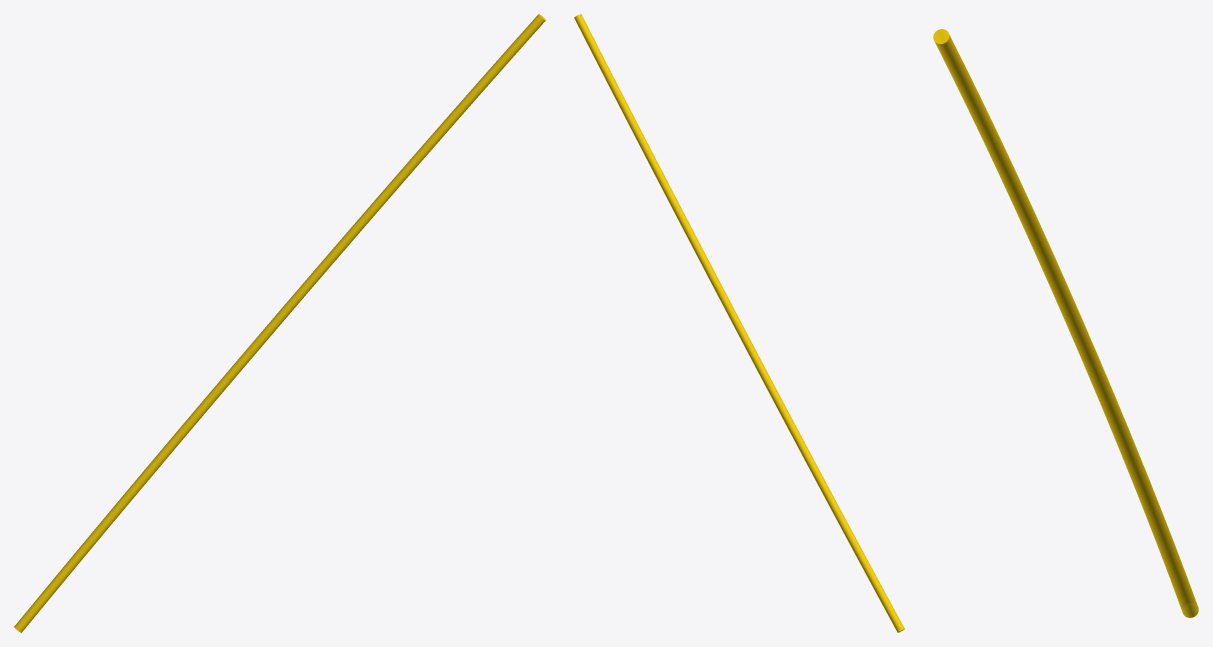
File: Event_421127236_track_10.fbx
3 views of the same model, side by side, from view 1: azimuth 30°, elevation 25°; view 2: azimuth 150°, elevation 25°; view 3: azimuth 270°, elevation 25° (orthographic). The views are drawn at different scales.
Parts seen in each view (by area): view 1: Model; view 2: Model; view 3: Model.
Part boxes in pixels (x1,y1,x2,y2): Model: [14, 14, 545, 632]; Model: [574, 14, 904, 632]; Model: [933, 29, 1198, 617].
Bounding box in the file's own units: 2.18 × 2.55 × 0.6402.
